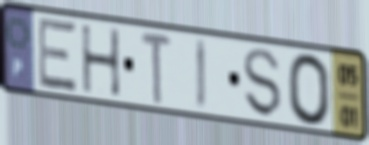E: (36, 15, 79, 95)
H: (78, 23, 123, 100)
I: (192, 36, 209, 114)
O: (285, 51, 334, 129)
S: (241, 46, 284, 121)
T: (139, 29, 175, 108)
